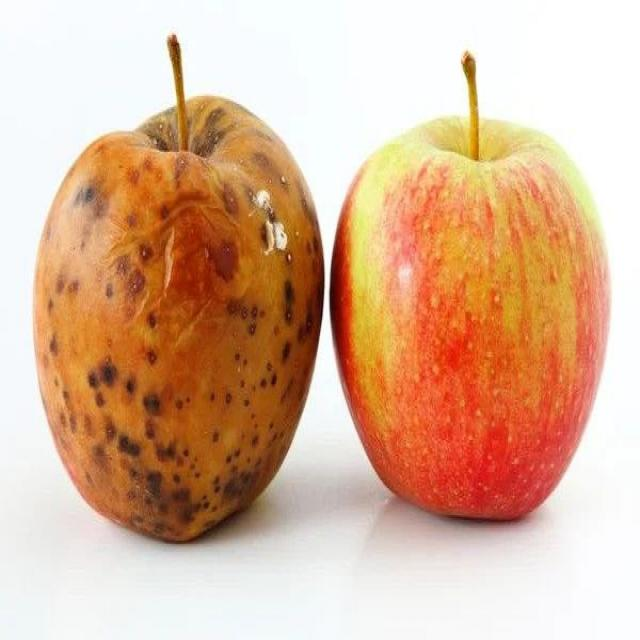fresh_apple: (330, 119, 611, 518)
rotten_apple: (35, 93, 324, 542)
